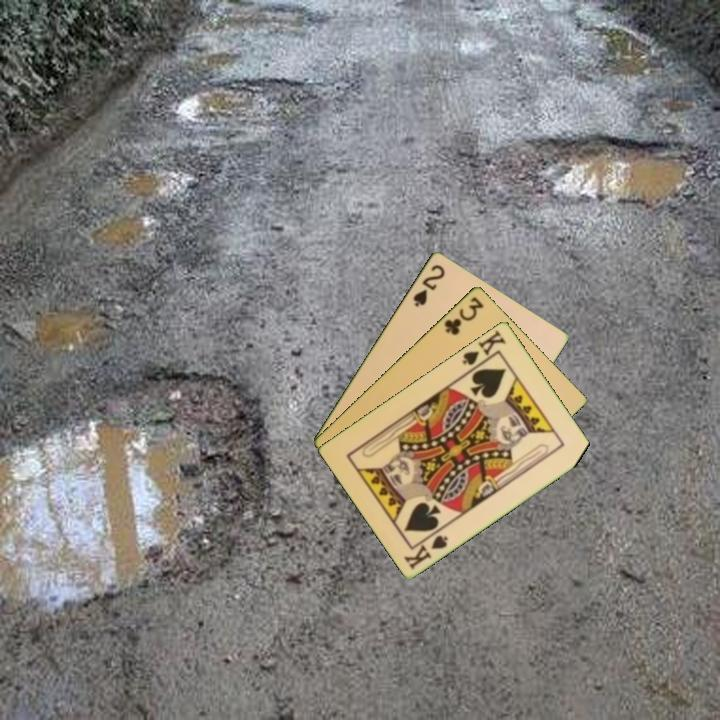2s: (409, 260, 448, 310)
3c: (440, 293, 487, 338)
Ks: (459, 326, 509, 368), (400, 531, 451, 572)
